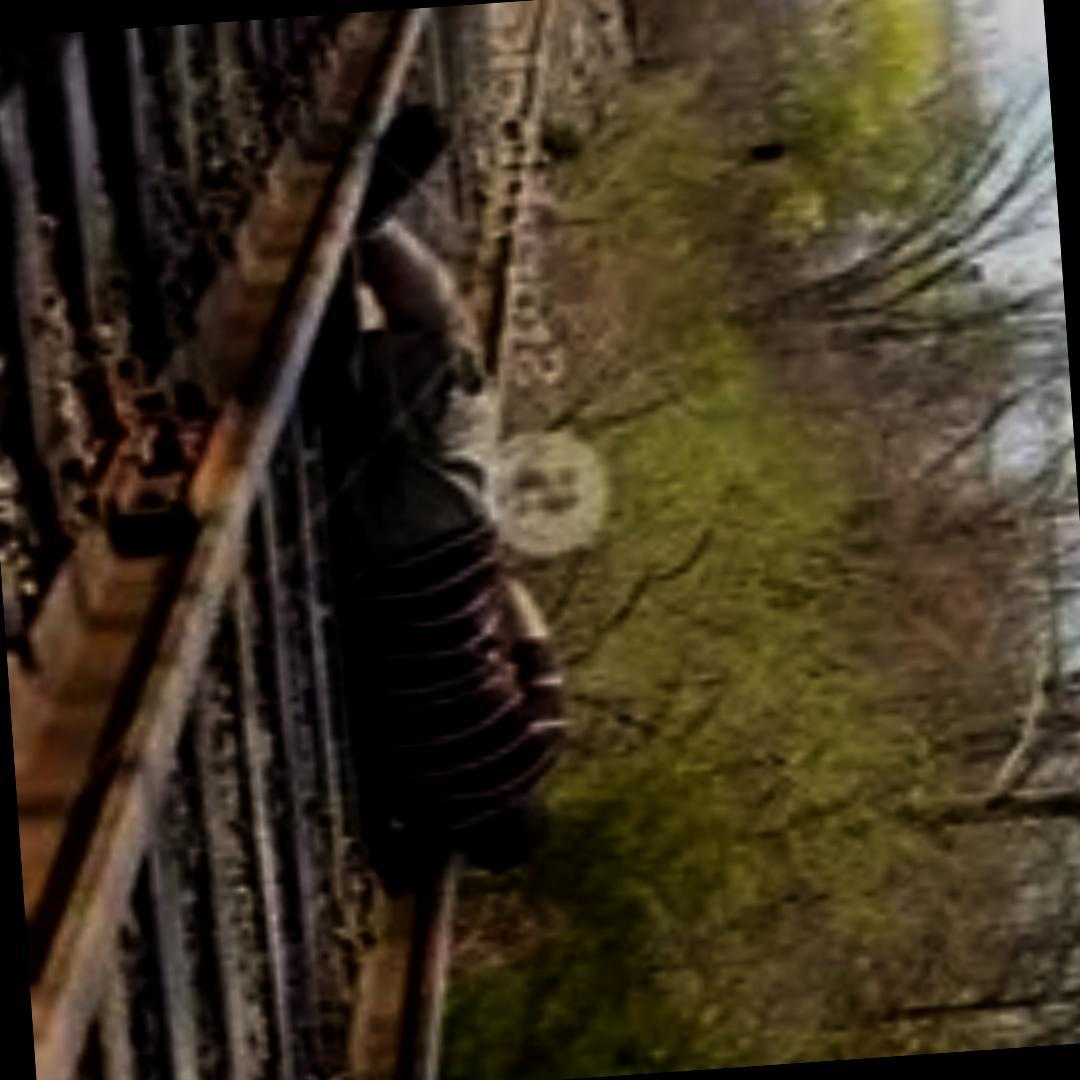sleeping: (262, 76, 590, 922)
track: (0, 2, 603, 1080)
